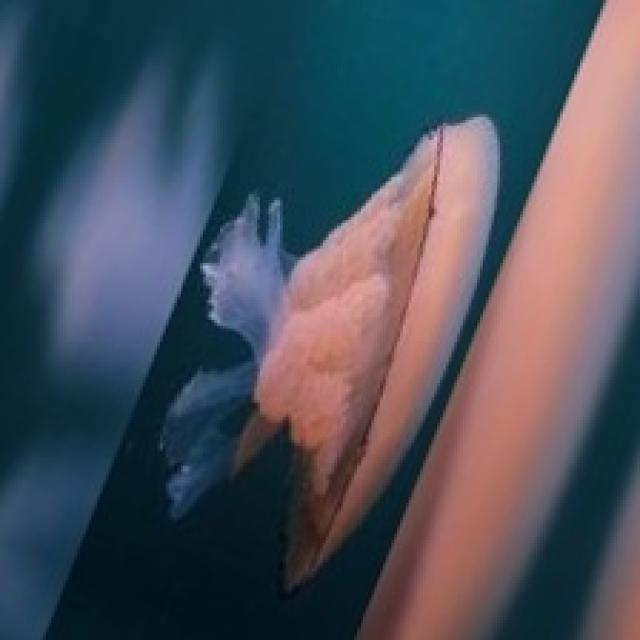Jellyfish: (157, 111, 503, 594)
